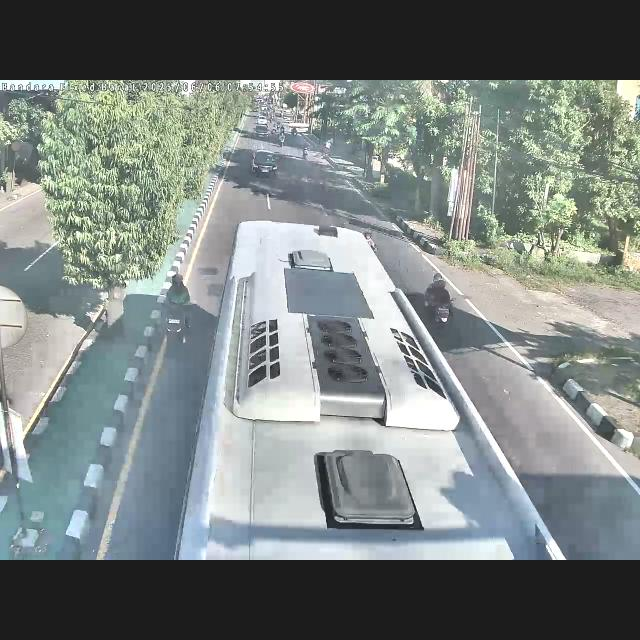Bis: (174, 218, 568, 560)
Motor: (158, 266, 196, 356), (416, 265, 456, 345)
